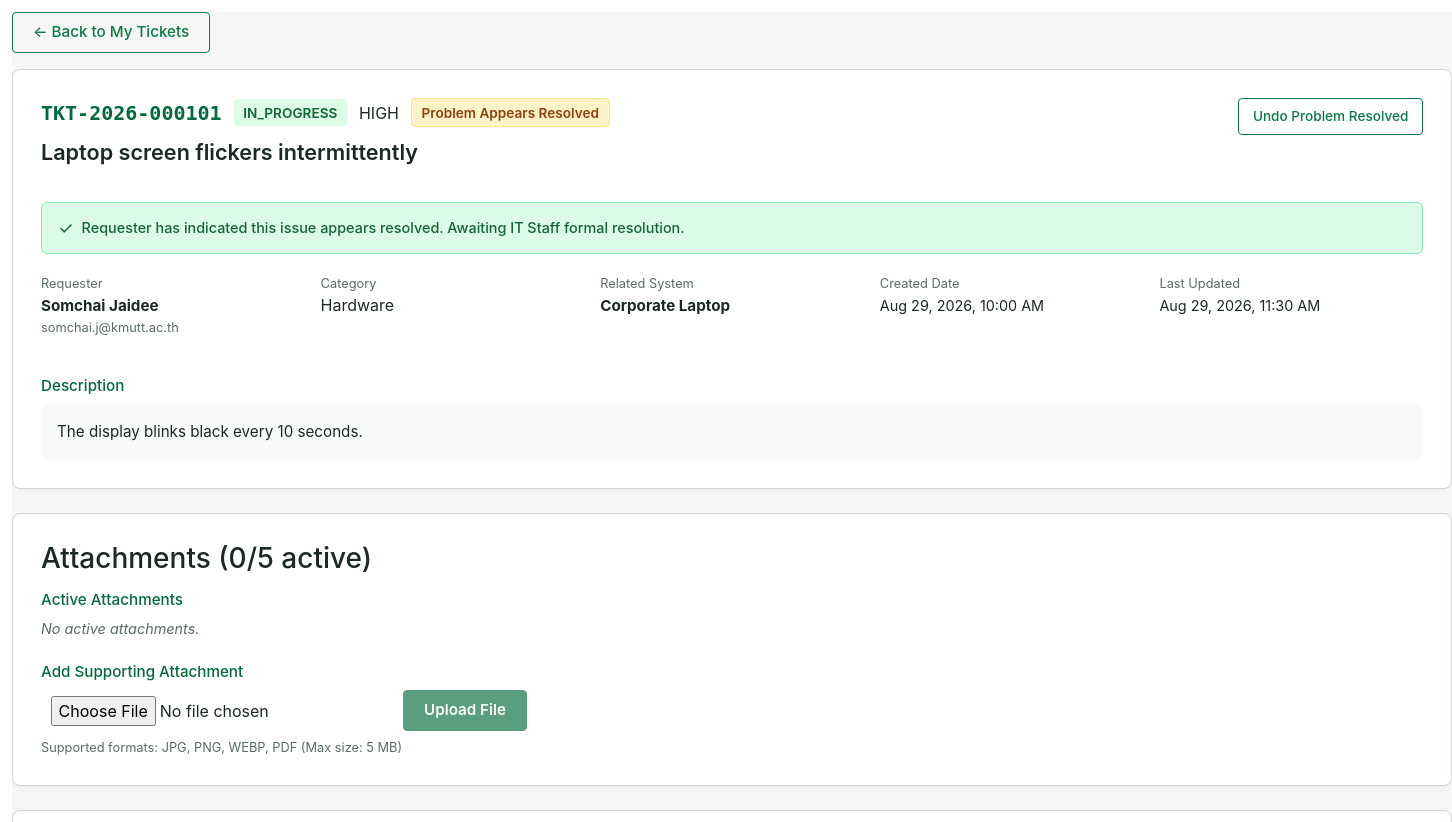
Test: RequesterTicketDetail - Problem Appears Resolved Indicator (REQ-03, AC-08, BR-10) › REQ-03 / AC-08: toggles problemAppearsResolved back to false on button click
Check: the text with test id "problem-resolved-badge" reads "Problem Appears Resolved", box [422,105,599,121]
Check: the element with test id "problem-resolved-banner" is shown, box [41,202,1423,254]
Click the button with test id "toggle-problem-resolved-btn" at (1331, 116), box [1238,98,1423,135]
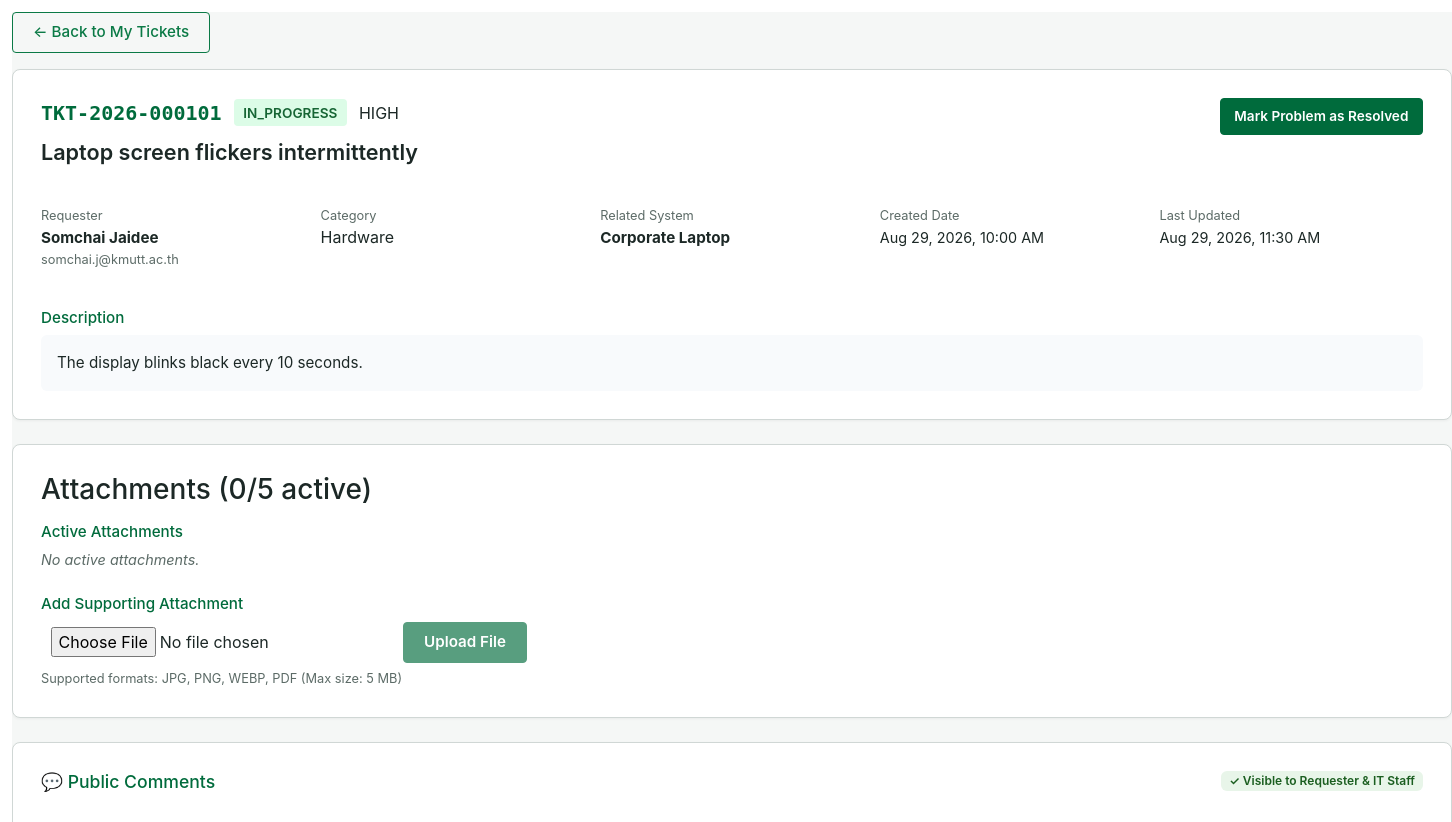
Check: the text with test id "problem-resolved-badge" is gone
Check: the element with test id "problem-resolved-banner" is gone
Check: the button with test id "toggle-problem-resolved-btn" reads "Mark Problem as Resolved", box [1220,98,1423,135]
